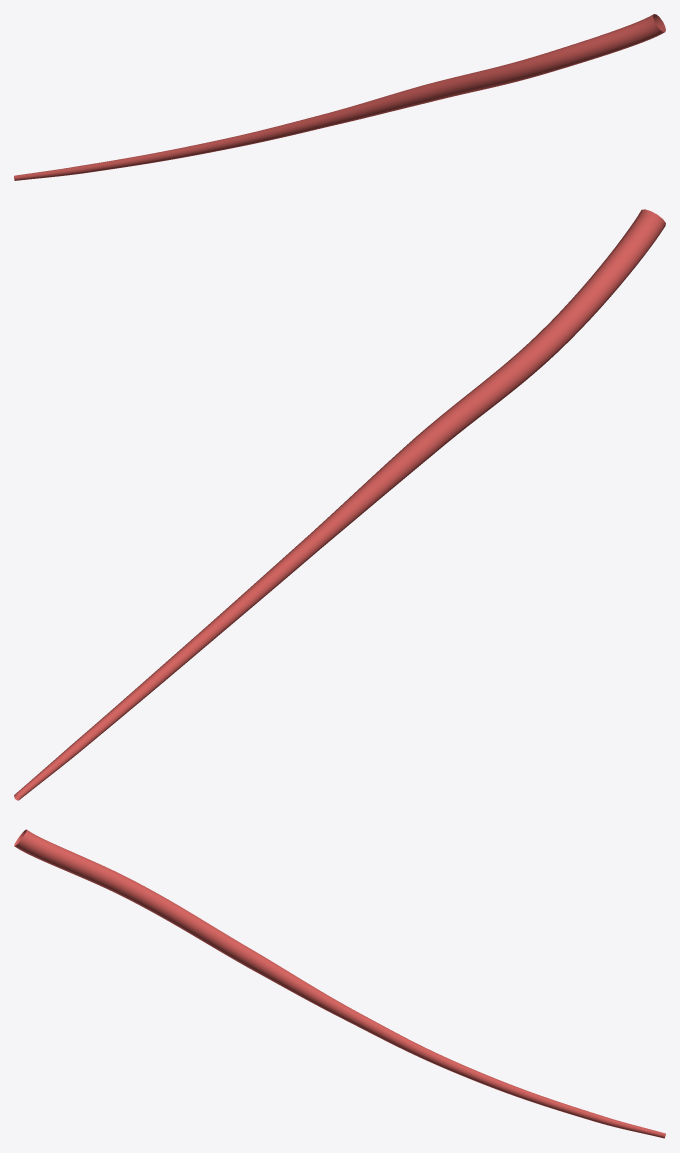
The picture shows the model from 3 angles, top to bottom: view 1: azimuth 90°, elevation 25°; view 2: azimuth 150°, elevation 25°; view 3: azimuth 270°, elevation 25°; orthographic projection. The views are drawn at different scales.
Visible parts, largest first — view 1: 左侧胸肩峰动脉胸肌支; view 2: 左侧胸肩峰动脉胸肌支; view 3: 左侧胸肩峰动脉胸肌支.
Part boxes in pixels (left/top/right/bottom): 左侧胸肩峰动脉胸肌支: left=14, top=14, right=665, bottom=180; 左侧胸肩峰动脉胸肌支: left=14, top=209, right=665, bottom=800; 左侧胸肩峰动脉胸肌支: left=14, top=829, right=665, bottom=1138.
Bounding box in the file's own units: 0.0502 × 0.0718 × 0.1794.
